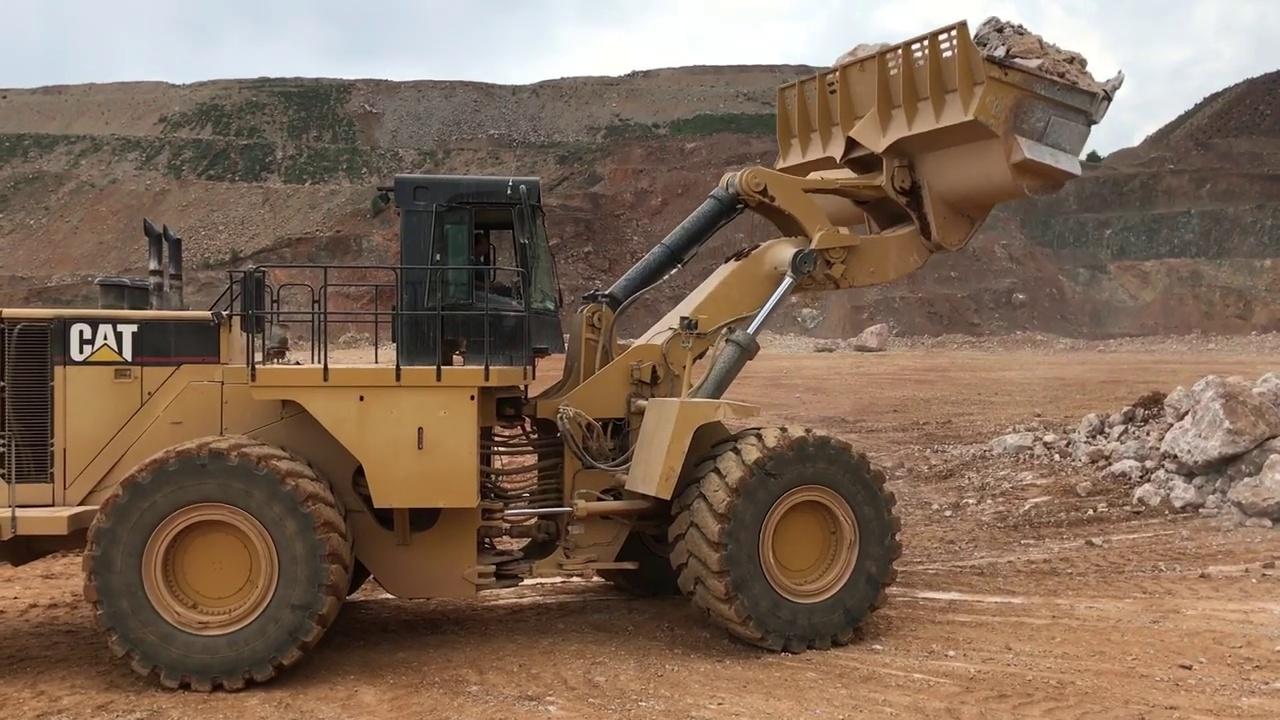wheel loader: (6, 19, 1125, 694)
